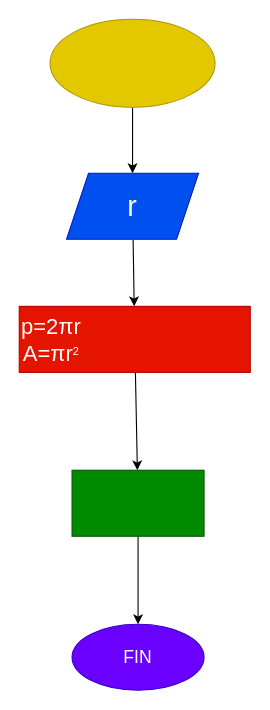
Image size: 270x710. Some labels were removed from this diagram. Each missing label, with the box of its shape:
INICIO: (49, 18, 215, 107)
P.A: (71, 469, 204, 536)
